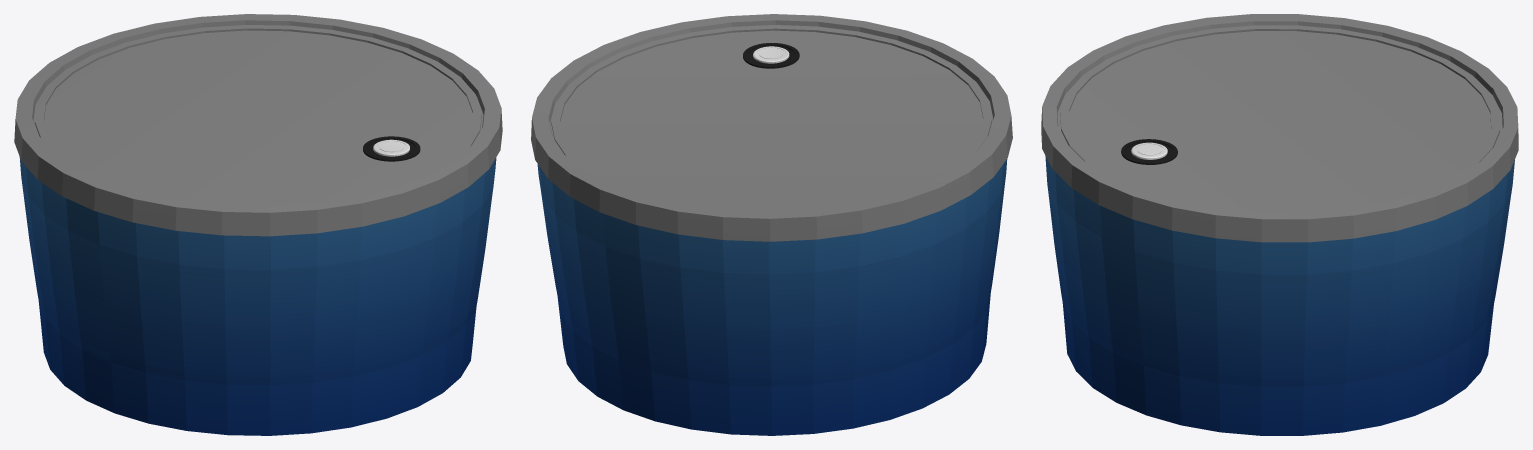
File: Small Industrial Bucket Blue.fbx
3 views of the same model, side by side, from view 1: azimuth 30°, elevation 25°; view 2: azimuth 150°, elevation 25°; view 3: azimuth 270°, elevation 25° (orthographic).
Parts seen in each view (by area): view 1: Small Industrial Bucket Blue; view 2: Small Industrial Bucket Blue; view 3: Small Industrial Bucket Blue.
Boxes of the visible parts, <box> form: Small Industrial Bucket Blue: <box>14,14,502,435</box>; Small Industrial Bucket Blue: <box>531,14,1012,435</box>; Small Industrial Bucket Blue: <box>1041,14,1518,435</box>.
Bounding box in the file's own units: 118 × 217 × 219.
1 material, 1 textured.
